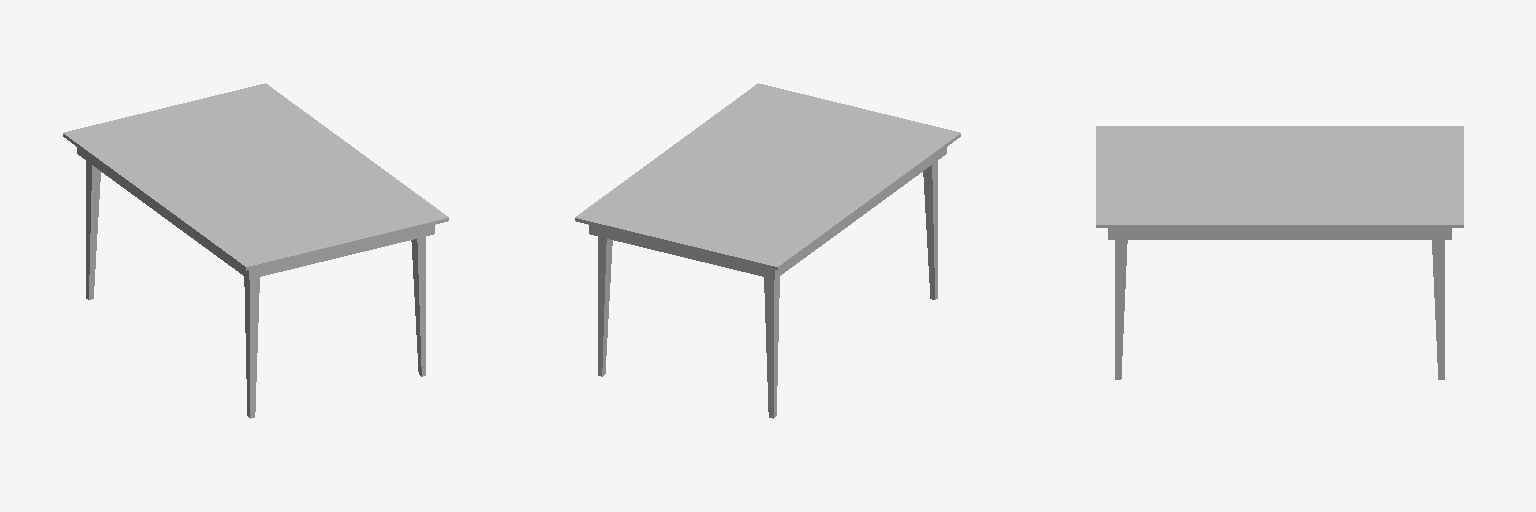
The model's file is table.obj.
3 renders of one model, left to right at view 1: azimuth 30°, elevation 25°; view 2: azimuth 150°, elevation 25°; view 3: azimuth 270°, elevation 25°, orthographic.
Parts seen in each view (by area): view 1: Cube.002_Cube; view 2: Cube.002_Cube; view 3: Cube.002_Cube.
Part boxes in pixels (x1,y1,x2,y2): Cube.002_Cube: (63,83,448,418); Cube.002_Cube: (575,83,960,418); Cube.002_Cube: (1096,126,1463,379).
Size of the model in its own units: 2 by 1.52 by 3.13.